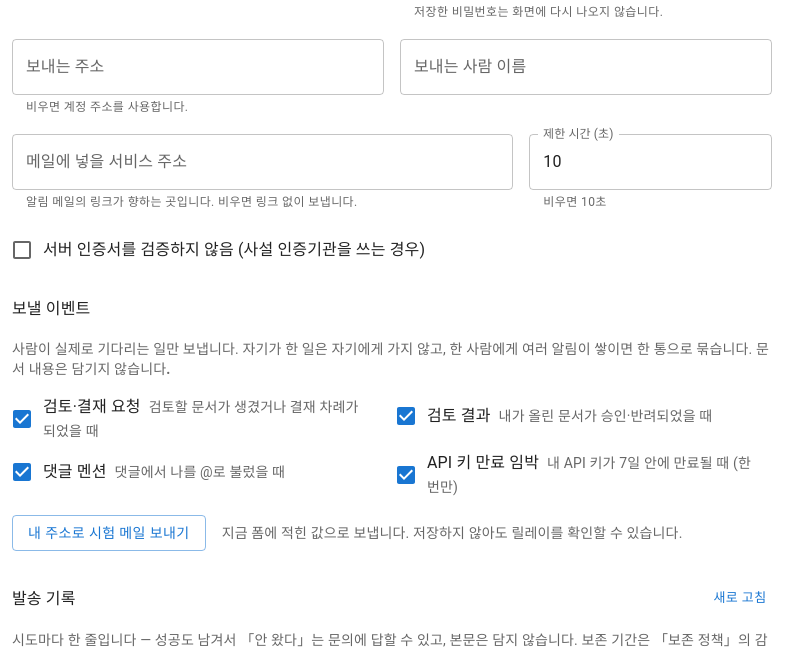
Test: MailSettings › shows the relay's refusal in place
(page scrolled)
Click the button "내 주소로 시험 메일 보내기": (109, 533) [12,515,206,551]
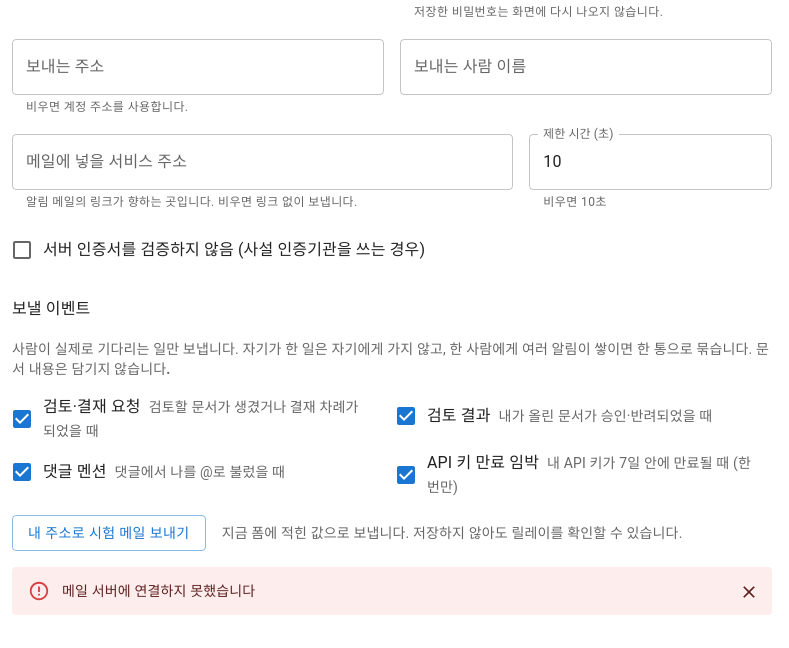
Expected: the text "메일 서버에 연결하지 못했습니다" is shown, [62,583,255,599]
